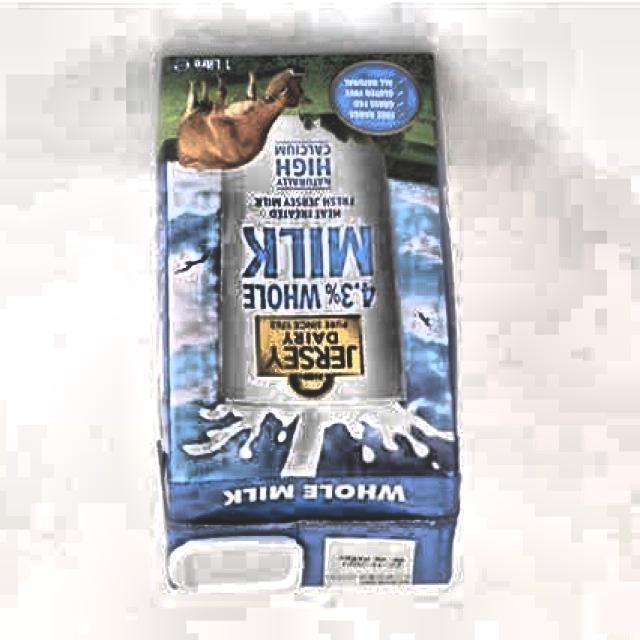cardboard: (154, 51, 462, 594)
